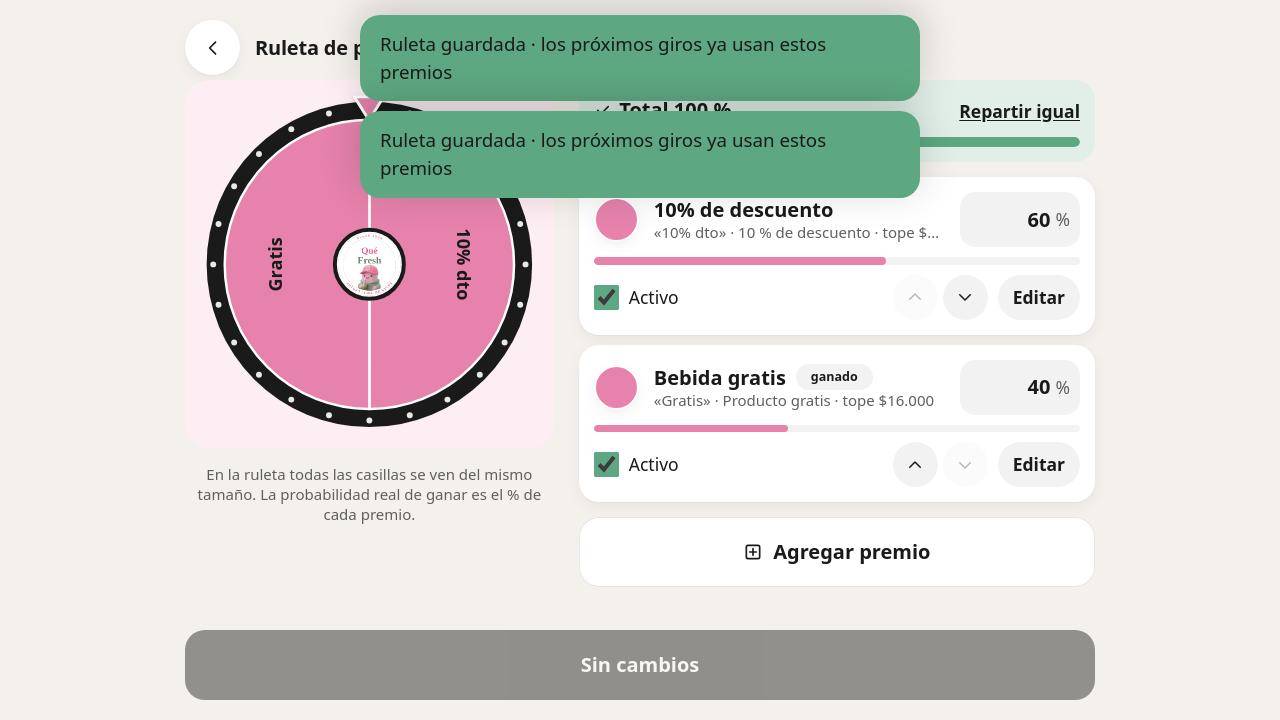
Test: Ruleta de premios (editor) › locks the reward of a prize already won
The width and height of the screenshot is (1280, 720).
What coordinates should you click on to do the following:
click the 2nd button "Editar"
I would click on:
 (1039, 464)
Its box is [998,442,1080,487].
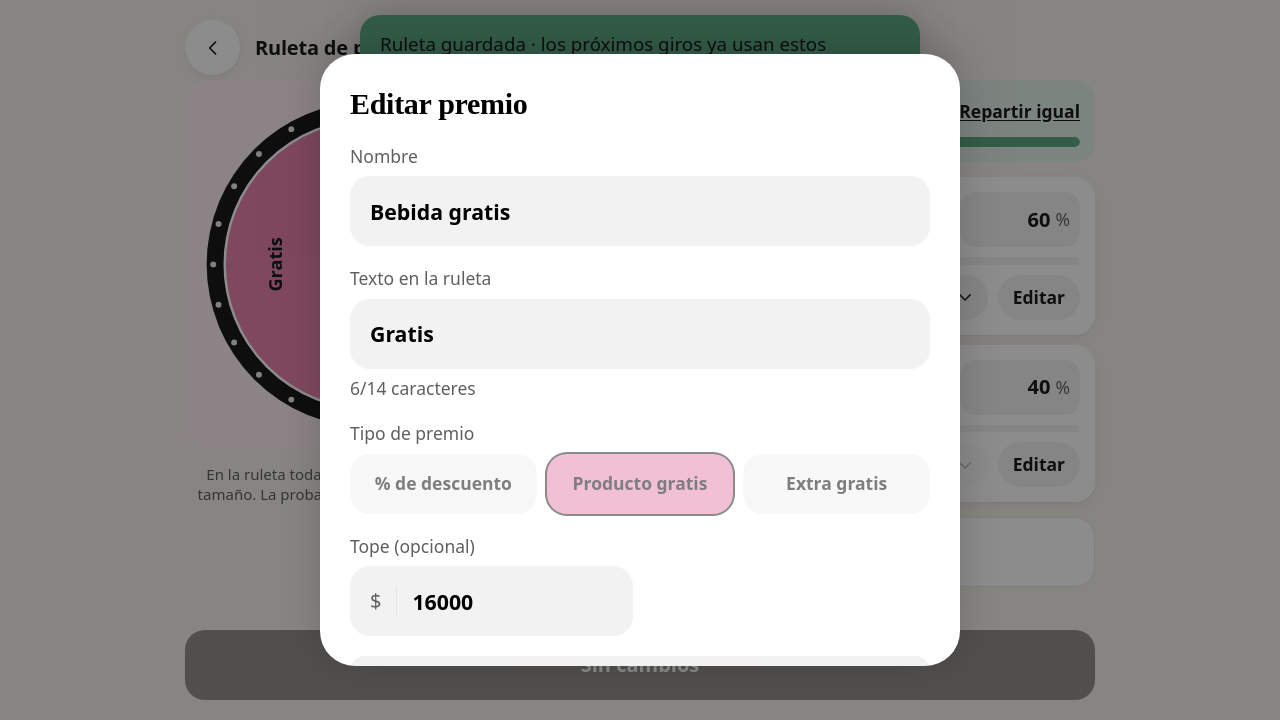
Check: the button "% de descuento" is disabled, box [350,454,537,514]
Check: the field labelled "Tope (opcional)" is disabled, box [412,572,612,631]
